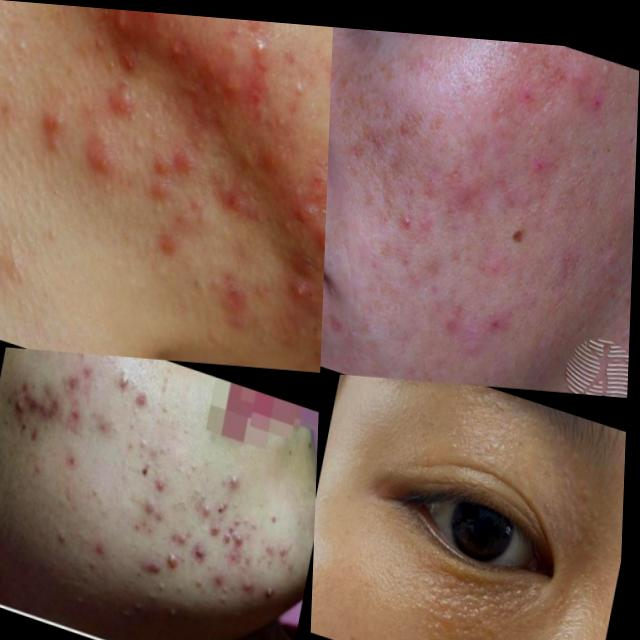8: (435, 287, 472, 342), (187, 32, 224, 80), (217, 62, 251, 106), (479, 299, 517, 335), (145, 549, 173, 579), (65, 394, 90, 426), (136, 494, 165, 518), (193, 533, 214, 565), (66, 366, 88, 395), (152, 470, 177, 494), (231, 529, 252, 553), (96, 536, 117, 559), (242, 571, 261, 594), (266, 532, 285, 555), (196, 570, 215, 591), (215, 566, 232, 589), (178, 524, 196, 545), (213, 519, 224, 544)
9: (150, 23, 190, 73), (282, 258, 317, 310), (240, 26, 278, 70), (282, 66, 315, 106), (114, 362, 139, 400), (227, 464, 252, 492), (314, 210, 327, 260), (165, 546, 187, 570), (266, 577, 284, 598)
blackheads: (405, 554, 544, 640), (428, 374, 531, 465), (95, 6, 172, 79), (74, 122, 133, 199), (561, 44, 615, 119), (558, 432, 607, 513), (568, 486, 614, 561), (19, 390, 64, 426)
